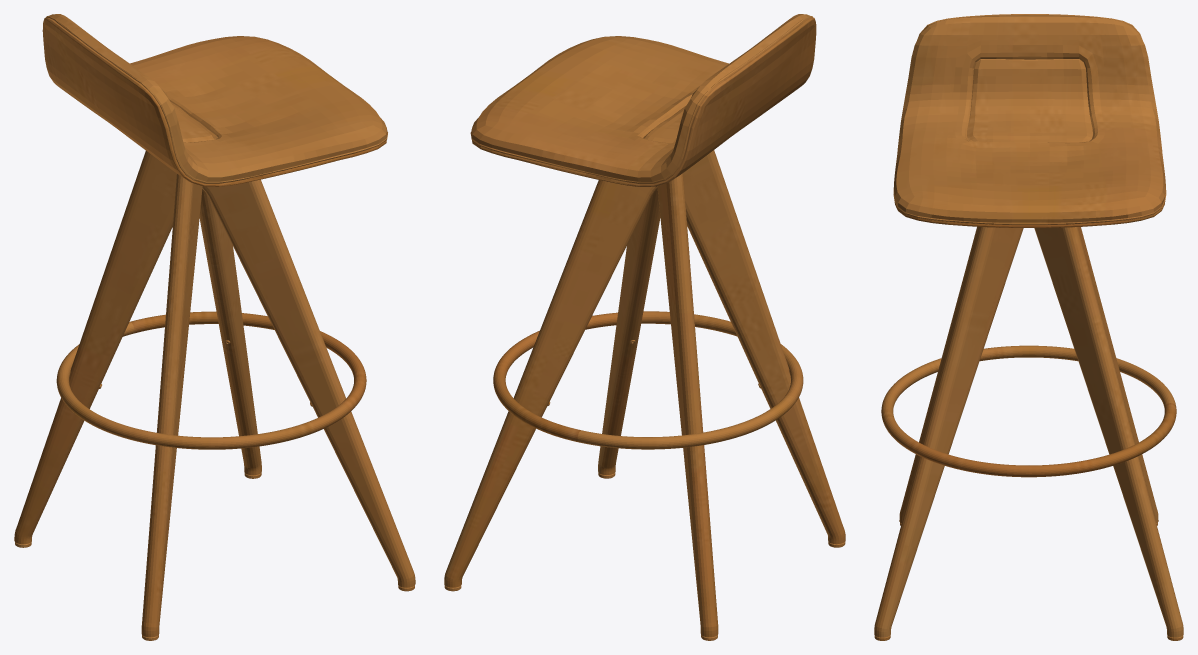
The model's file is Silla.obj.
3 renders of one model, left to right at view 1: azimuth 30°, elevation 25°; view 2: azimuth 150°, elevation 25°; view 3: azimuth 270°, elevation 25°, orthographic. The views are drawn at different scales.
Parts seen in each view (by area): view 1: TORSO_837_AI_supports_002; view 2: TORSO_837_AI_supports_002; view 3: TORSO_837_AI_supports_002.
Boxes of the visible parts, x1=… form: TORSO_837_AI_supports_002: x1=14, y1=14, x2=415, y2=640; TORSO_837_AI_supports_002: x1=444, y1=14, x2=845, y2=640; TORSO_837_AI_supports_002: x1=874, y1=14, x2=1183, y2=640.
Bounding box in the file's own units: 36.51 × 70.36 × 38.26.
1 material, 1 textured.
